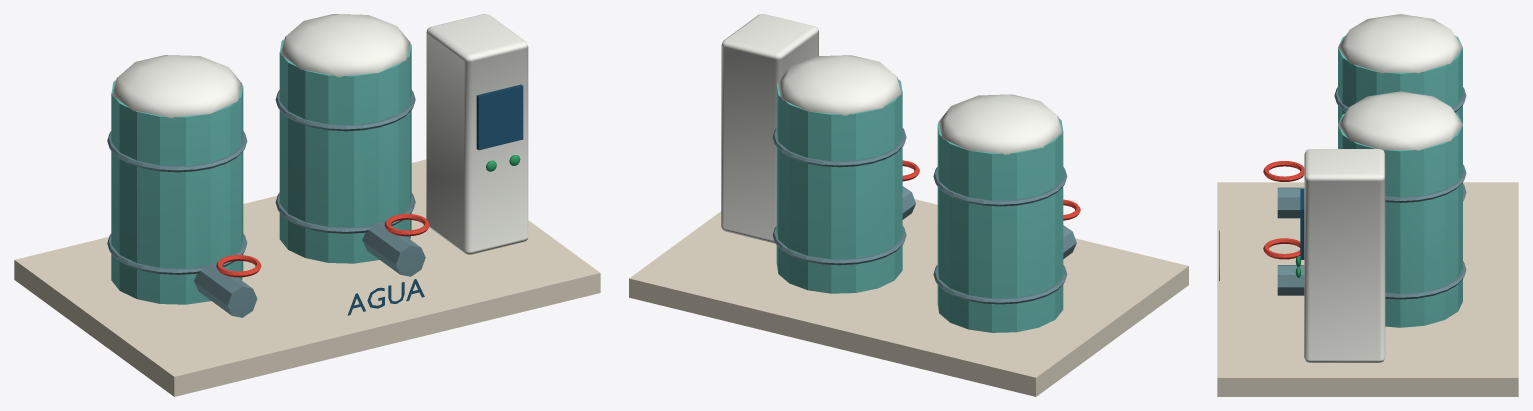
The model's file is water-treatment.glb.
3 renders of one model, left to right at view 1: azimuth 30°, elevation 25°; view 2: azimuth 150°, elevation 25°; view 3: azimuth 270°, elevation 25°, orthographic. The views are drawn at different scales.
Parts seen in each view (by area): view 1: treatment foundation, filter pressure vessel, filter domed lid, tank seam, control display, valve wheel; view 2: filter pressure vessel, treatment foundation, filter domed lid, tank seam; view 3: treatment foundation, filter domed lid, filter pressure vessel, tank seam, valve wheel, control display.
Part boxes in pixels (box(x1,y1,x2,y2)): treatment foundation: box(14, 159, 600, 396); filter pressure vessel: box(111, 39, 411, 304); filter domed lid: box(112, 14, 528, 254); tank seam: box(107, 90, 425, 317); control display: box(347, 84, 523, 315); valve wheel: box(216, 214, 429, 277); filter pressure vessel: box(776, 79, 1063, 332); treatment foundation: box(629, 199, 1188, 396); filter domed lid: box(721, 14, 1062, 243); tank seam: box(772, 128, 1076, 304); treatment foundation: box(1217, 182, 1518, 396); filter domed lid: box(1304, 14, 1462, 362); filter pressure vessel: box(1338, 35, 1462, 327); tank seam: box(1277, 87, 1466, 299); valve wheel: box(1263, 161, 1304, 259); control display: box(1219, 189, 1304, 280).
Size of the model in its own units: 2 by 1.05 by 1.3.
